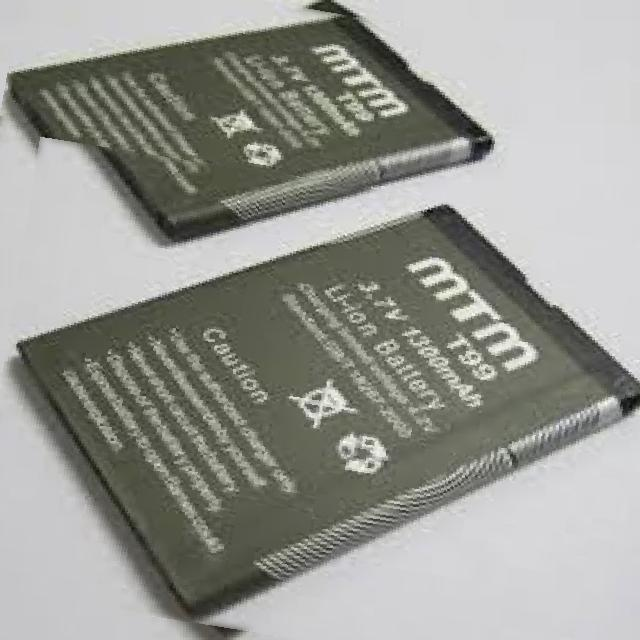Battery: (3, 181, 639, 632), (2, 5, 532, 247)
